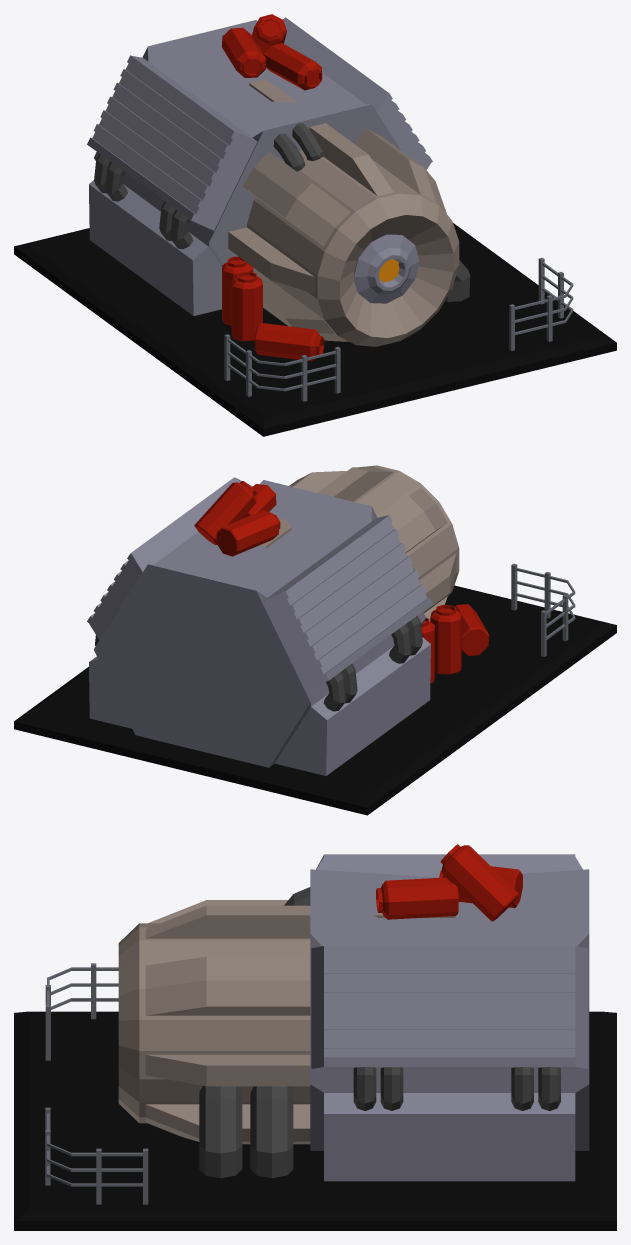
Rendered from Generator2.0.fbx.
3 renders of one model, top to bottom at view 1: azimuth 30°, elevation 25°; view 2: azimuth 150°, elevation 25°; view 3: azimuth 270°, elevation 25°, orthographic. The views are drawn at different scales.
Parts seen in each view (by area): view 1: chassi, Base, BIGMOTOR, barrels, GUARDS, ALLDUCTS, MIDDLE, BARREL; view 2: chassi, Base, BIGMOTOR, barrels, ALLDUCTS, GUARDS, BARREL; view 3: chassi, Base, BIGMOTOR, ALLDUCTS, GUARDS, barrels, BARREL.
Boxes of the visible parts, x1,y1,x2,y2 form: chassi: (87, 17, 432, 315); Base: (14, 223, 616, 436); BIGMOTOR: (228, 79, 459, 346); barrels: (222, 27, 324, 361); GUARDS: (224, 257, 573, 401); ALLDUCTS: (94, 123, 470, 301); MIDDLE: (353, 234, 419, 303); BARREL: (251, 14, 286, 53); chassi: (87, 477, 432, 775); Base: (14, 585, 616, 815); BIGMOTOR: (260, 465, 459, 621); barrels: (216, 484, 489, 683); ALLDUCTS: (95, 498, 422, 711); GUARDS: (511, 563, 575, 656); BARREL: (194, 481, 256, 544); chassi: (310, 854, 589, 1181); Base: (14, 1011, 616, 1230); BIGMOTOR: (118, 900, 455, 1144); ALLDUCTS: (199, 887, 560, 1178); GUARDS: (45, 963, 148, 1204); barrels: (376, 866, 522, 919); BARREL: (440, 844, 518, 921).
Bounding box in the file's own units: 1910 × 1233 × 2334.
